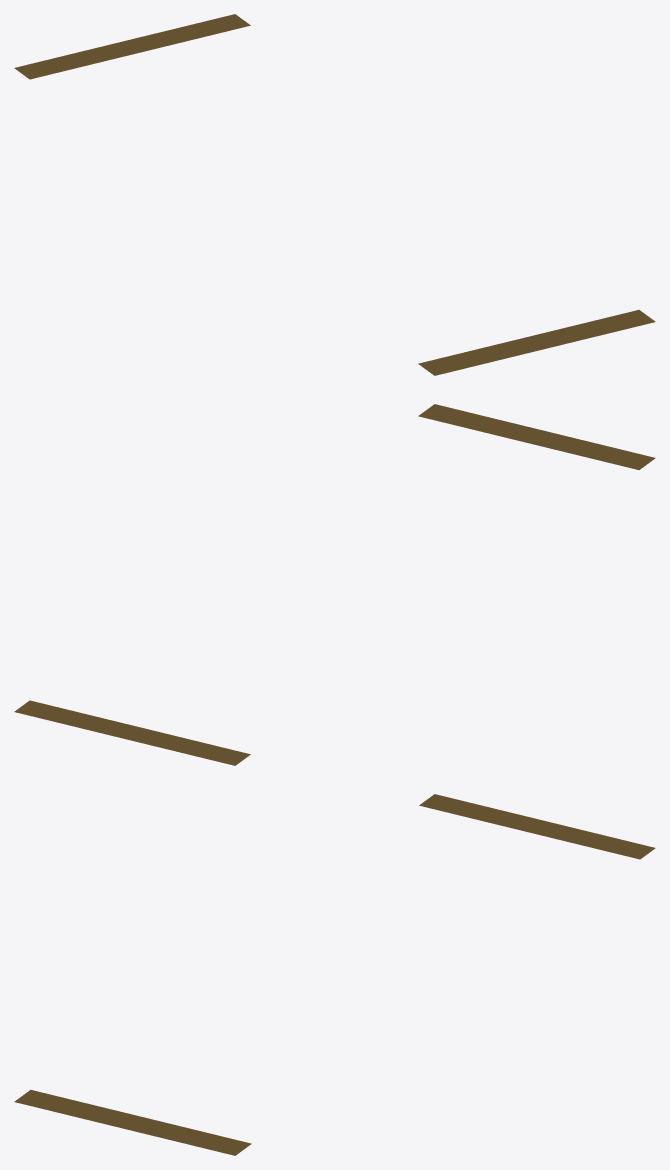
Rendered from towpath.dae.
3 views of the same model, one above another, from view 1: azimuth 30°, elevation 25°; view 2: azimuth 150°, elevation 25°; view 3: azimuth 330°, elevation 25° (orthographic).
Parts seen in each view (by area): view 1: Plane_008; view 2: Plane_008; view 3: Plane_008.
Boxes of the visible parts, left/top/right/bottom form: Plane_008: left=14, top=14, right=655, bottom=375; Plane_008: left=14, top=404, right=655, bottom=765; Plane_008: left=14, top=794, right=655, bottom=1155.
Bounding box in the file's own units: 1.86 × 6.11 × 0.
